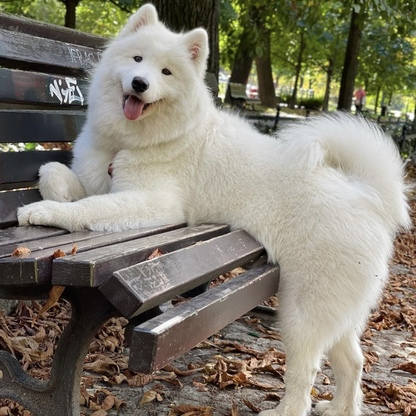samoyed: (12, 2, 414, 416)
